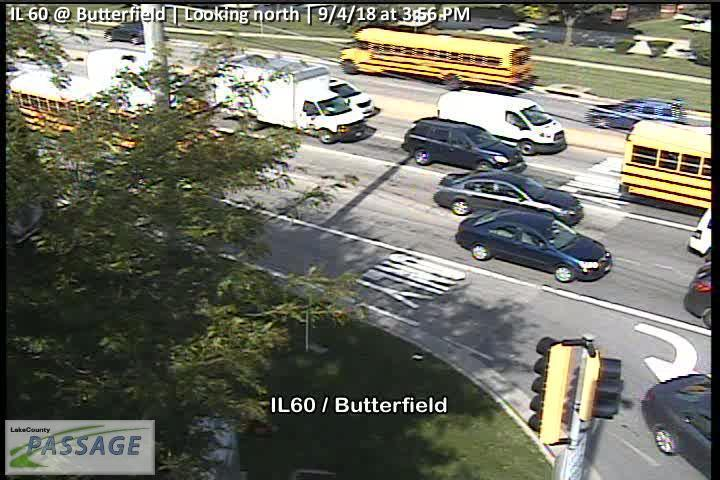Bus: (339, 27, 531, 90), (618, 120, 720, 210)
SUV: (439, 88, 568, 156), (402, 119, 526, 171), (587, 98, 686, 132)
Sedan: (456, 209, 614, 283), (432, 168, 585, 226), (326, 74, 377, 118)
Truck: (211, 55, 366, 144)
